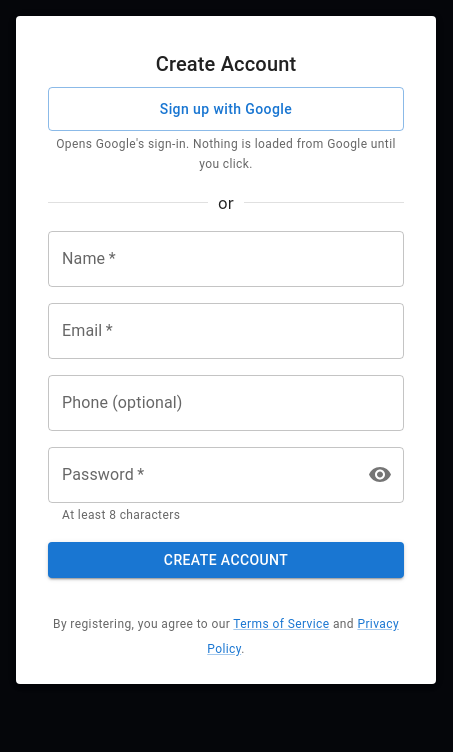
it: a generic 400 keeps the generic message
The image size is (453, 752).
Type "Sam" into the field labelled "Name *".
click(226, 259); type("Sam")  # box [48,231,404,287]
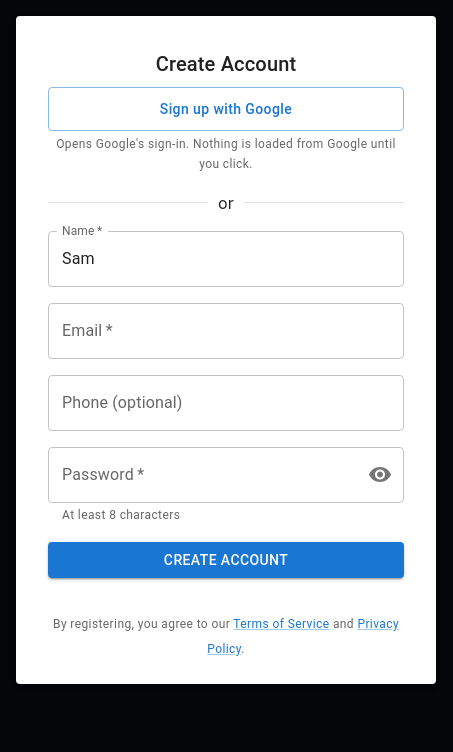
Type "sam@example.com" into the field labelled "Email *".
click(226, 331); type("sam@example.com")  # box [48,303,404,359]
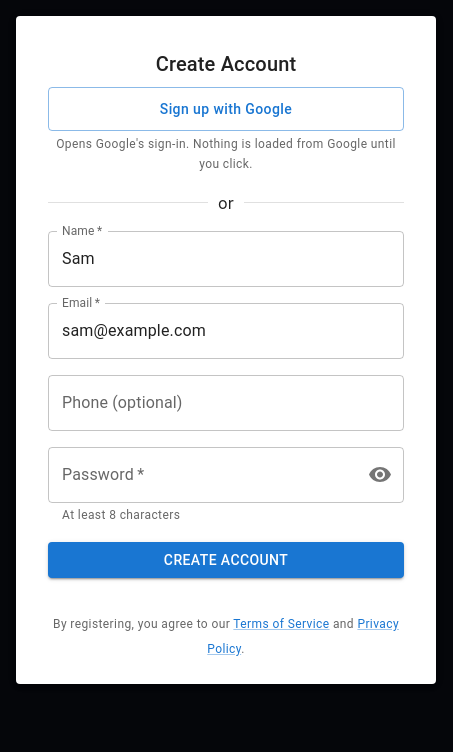
Type "longenough" into the password field labelled "Password *".
click(199, 475); type("longenough")  # box [48,447,350,503]
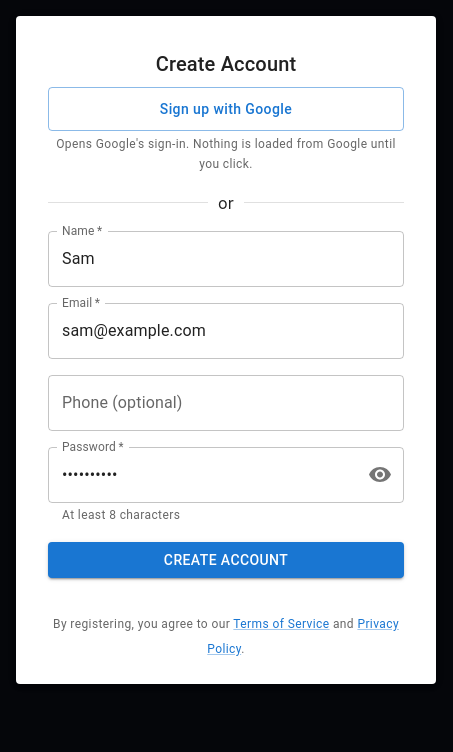
Click the button "Create Account".
click(226, 560)  # box [48,542,404,578]
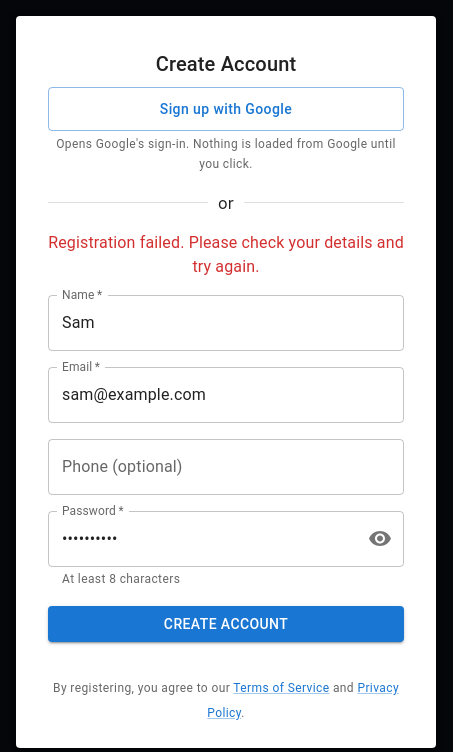
Now the text "Registration failed. Please check your details and try again." is shown, box [48,231,404,279]
